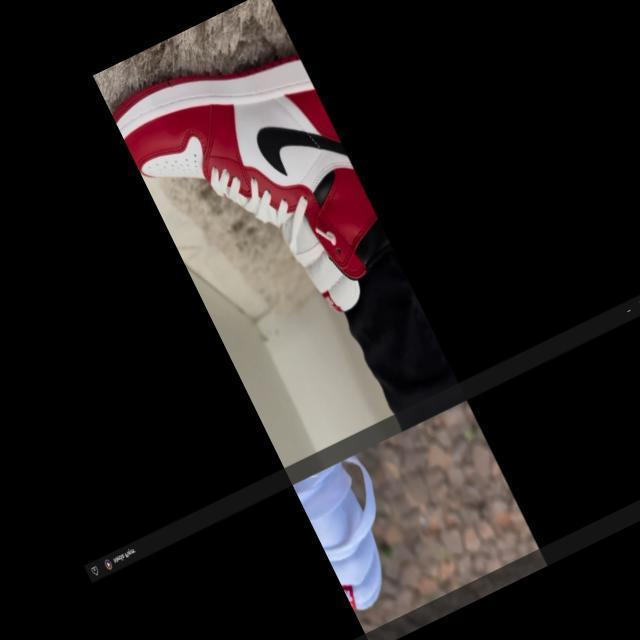nike original jordan 1: (105, 14, 406, 352)
